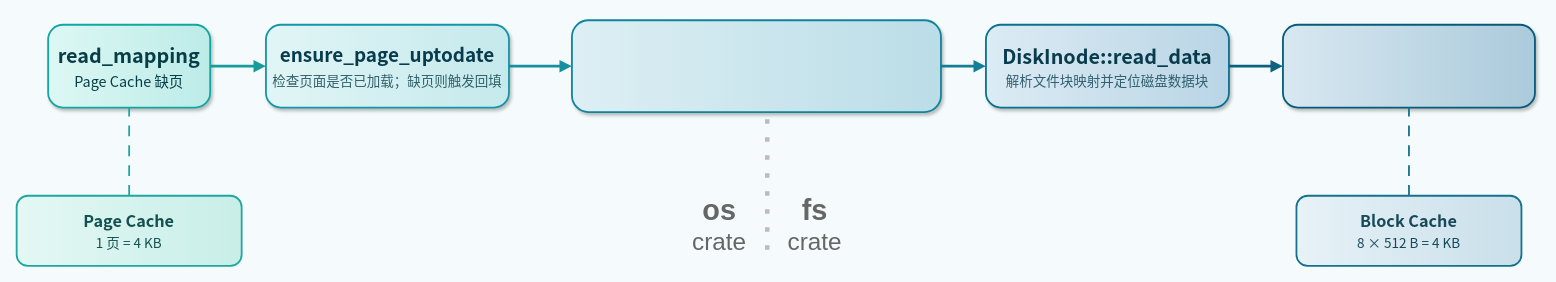
The diagram is 1556 pixels wide and 282 high, and some of its shapes have lost their labels. Each missing label, with the centre of its shape:
"get_block_cache / read_block_cache_range 将 8 × 512 B 磁盘块读入 Block Cache" belongs at (1409,67).
"inode.read_at(page_off, &mut page[..]) 进入 fs 库，按页偏移读取数据" belongs at (757,67).
